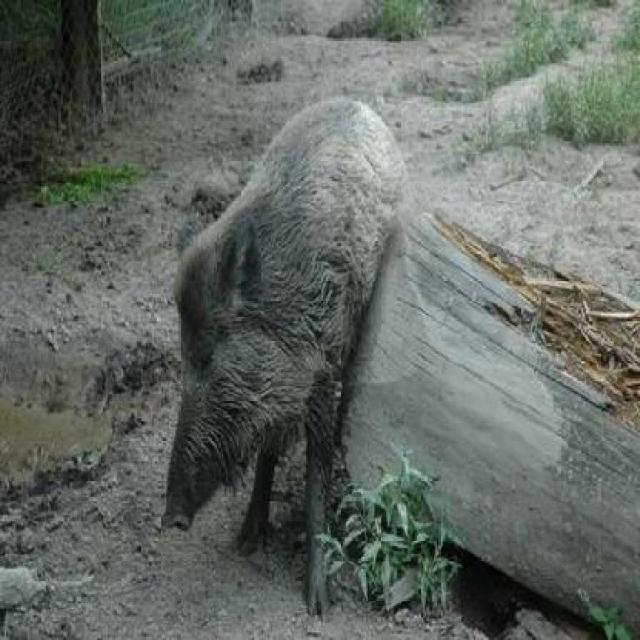pig: (145, 105, 399, 539)
